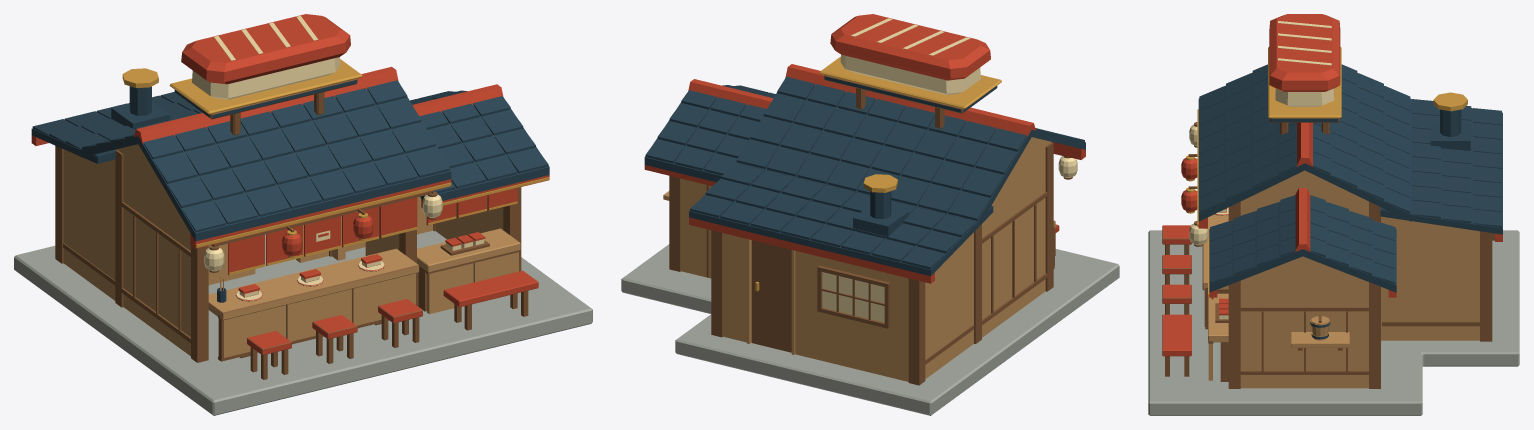
Rendered from craftsman-lv4.glb.
3 renders of one model, left to right at view 1: azimuth 30°, elevation 25°; view 2: azimuth 150°, elevation 25°; view 3: azimuth 270°, elevation 25°, orthographic. The views are drawn at different scales.
Visible parts, largest first — view 1: Craftsman_L4; view 2: Craftsman_L4; view 3: Craftsman_L4.
Part boxes in pixels (x1=…): Craftsman_L4: x1=14, y1=14, x2=592, y2=415; Craftsman_L4: x1=621, y1=14, x2=1119, y2=415; Craftsman_L4: x1=1148, y1=14, x2=1519, y2=415.
Bounding box in the file's own units: 6.1 × 4.34 × 5.55.
